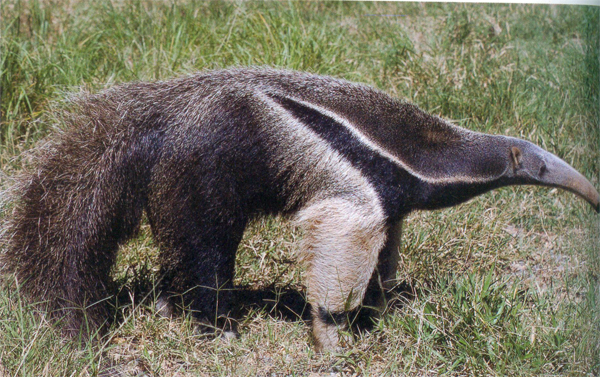TamanduaBandeira: (12, 62, 596, 356)
